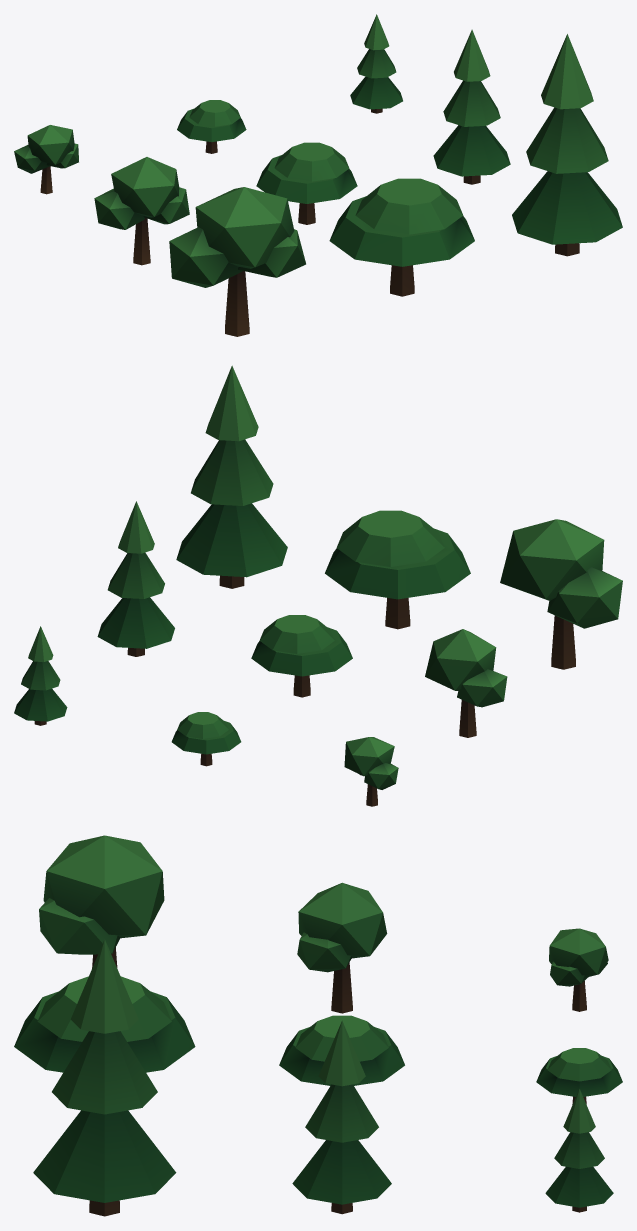
The model's file is trees.glb.
The picture shows the model from 3 angles, top to bottom: view 1: azimuth 30°, elevation 25°; view 2: azimuth 150°, elevation 25°; view 3: azimuth 270°, elevation 25°; orthographic projection. The views are drawn at different scales.
Visible parts, largest first — view 1: tree_l_cone, tree_l_round, tree_l_flat, tree_m_cone, tree_m_round, tree_m_flat, tree_s_cone, tree_s_round, tree_s_flat; view 2: tree_l_cone, tree_l_flat, tree_l_round, tree_m_cone, tree_m_flat, tree_m_round, tree_s_cone, tree_s_round, tree_s_flat; view 3: tree_l_cone, tree_l_round, tree_m_cone, tree_l_flat, tree_m_round, tree_m_flat, tree_s_cone, tree_s_flat, tree_s_round.
Boxes of the visible parts, left/top/right/bottom form: tree_l_cone: left=512, top=34, right=622, bottom=256; tree_l_round: left=169, top=187, right=305, bottom=336; tree_l_flat: left=329, top=178, right=474, bottom=296; tree_m_cone: left=433, top=29, right=510, bottom=184; tree_m_round: left=94, top=157, right=189, bottom=265; tree_m_flat: left=256, top=142, right=357, bottom=224; tree_s_cone: left=350, top=14, right=402, bottom=113; tree_s_round: left=14, top=125, right=78, bottom=194; tree_s_flat: left=177, top=100, right=246, bottom=153; tree_l_cone: left=176, top=365, right=287, bottom=588; tree_l_flat: left=325, top=510, right=470, bottom=629; tree_l_round: left=500, top=519, right=622, bottom=669; tree_m_cone: left=97, top=501, right=174, bottom=656; tree_m_flat: left=251, top=615, right=352, bottom=697; tree_m_round: left=425, top=629, right=507, bottom=737; tree_s_cone: left=14, top=626, right=67, bottom=725; tree_s_round: left=344, top=737, right=398, bottom=806; tree_s_flat: left=171, top=712, right=241, bottom=766; tree_l_cone: left=33, top=939, right=176, bottom=1216; tree_l_round: left=39, top=835, right=164, bottom=968; tree_m_cone: left=292, top=1020, right=391, bottom=1214; tree_l_flat: left=14, top=976, right=195, bottom=1072; tree_m_round: left=297, top=882, right=387, bottom=1013; tree_m_flat: left=279, top=1015, right=404, bottom=1085; tree_s_cone: left=545, top=1089, right=613, bottom=1212; tree_s_flat: left=536, top=1048, right=622, bottom=1104; tree_s_round: left=549, top=928, right=608, bottom=1011.
Bounding box in the file's own units: 42.63 × 20.08 × 41.04.
